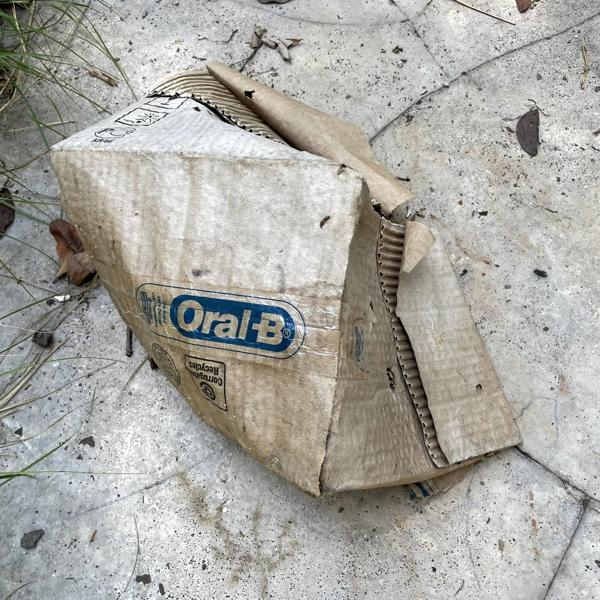Organik: (43, 55, 520, 502)
